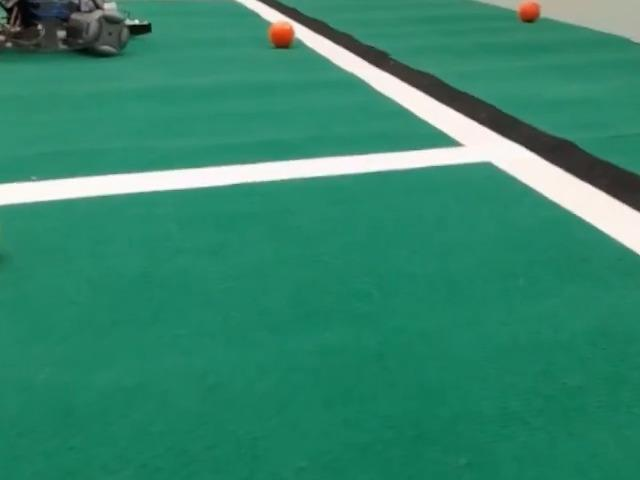Ball: (268, 21, 294, 48), (517, 0, 540, 22)
